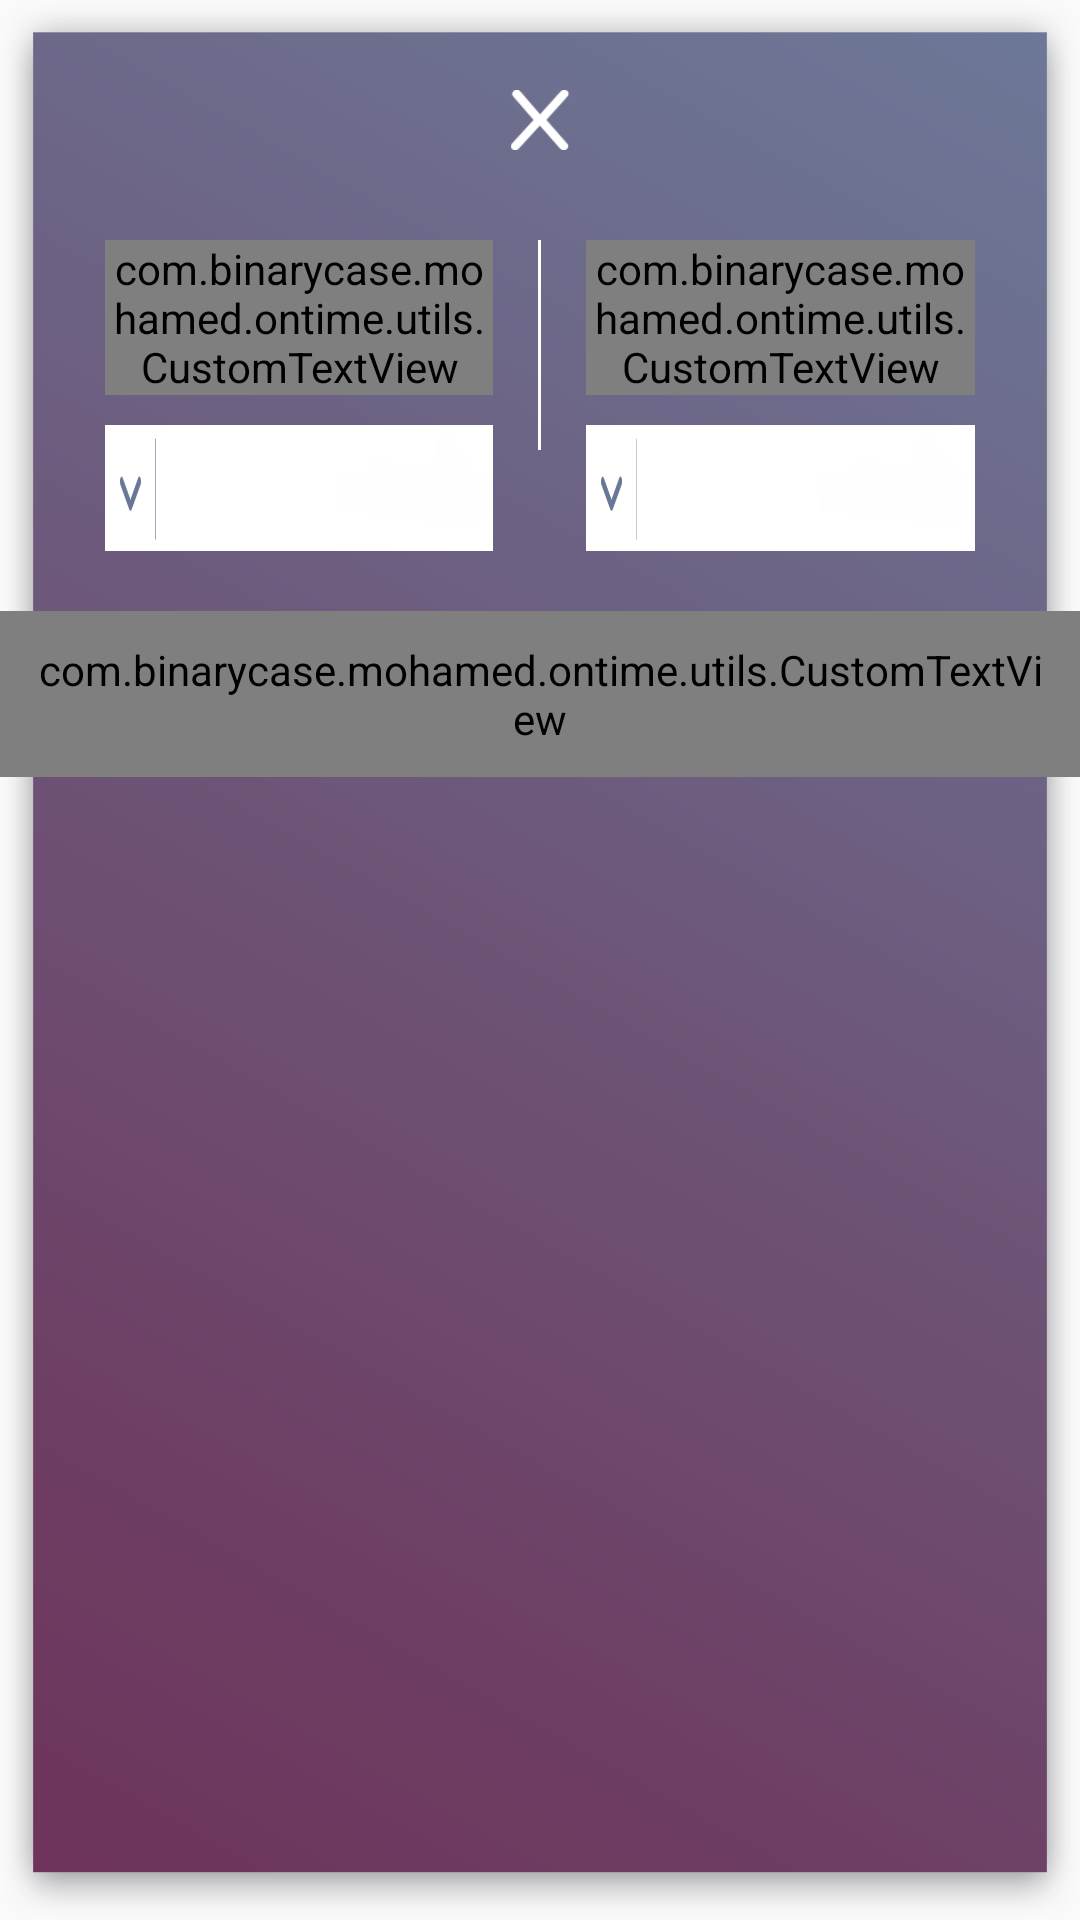

Locate icon controls on the screen. Image size 1080px x 1920px, boxes as (x1, y1, x2, y2).
close: (511, 90, 569, 150)
